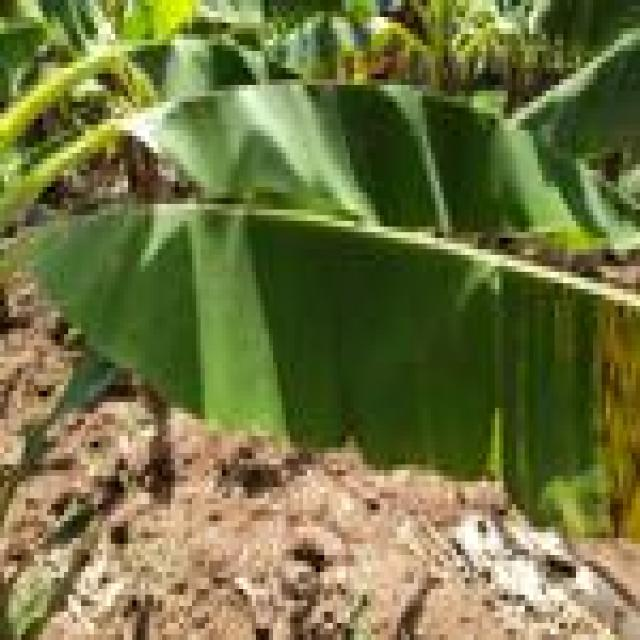Early_rust: (521, 269, 640, 577)
